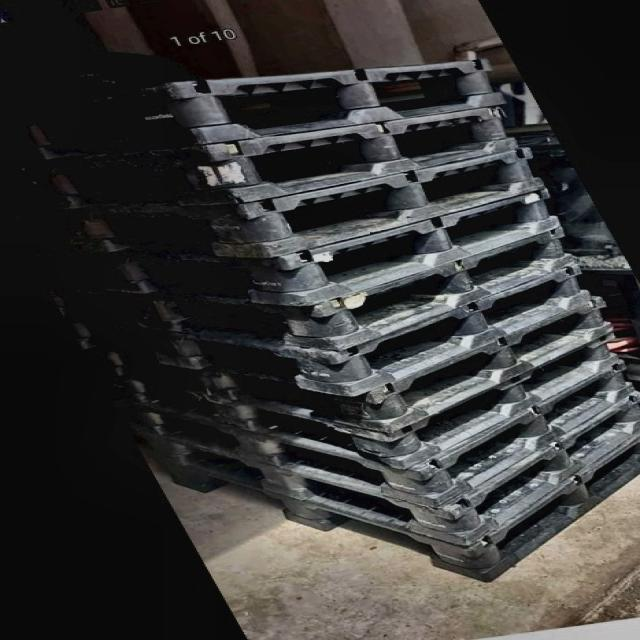non-igps: (227, 139, 570, 266), (189, 92, 540, 214), (303, 218, 589, 364), (380, 287, 639, 444), (341, 253, 616, 399), (276, 183, 576, 316), (388, 323, 638, 481), (400, 352, 638, 517), (152, 50, 534, 151), (454, 374, 638, 558), (476, 424, 639, 597)
